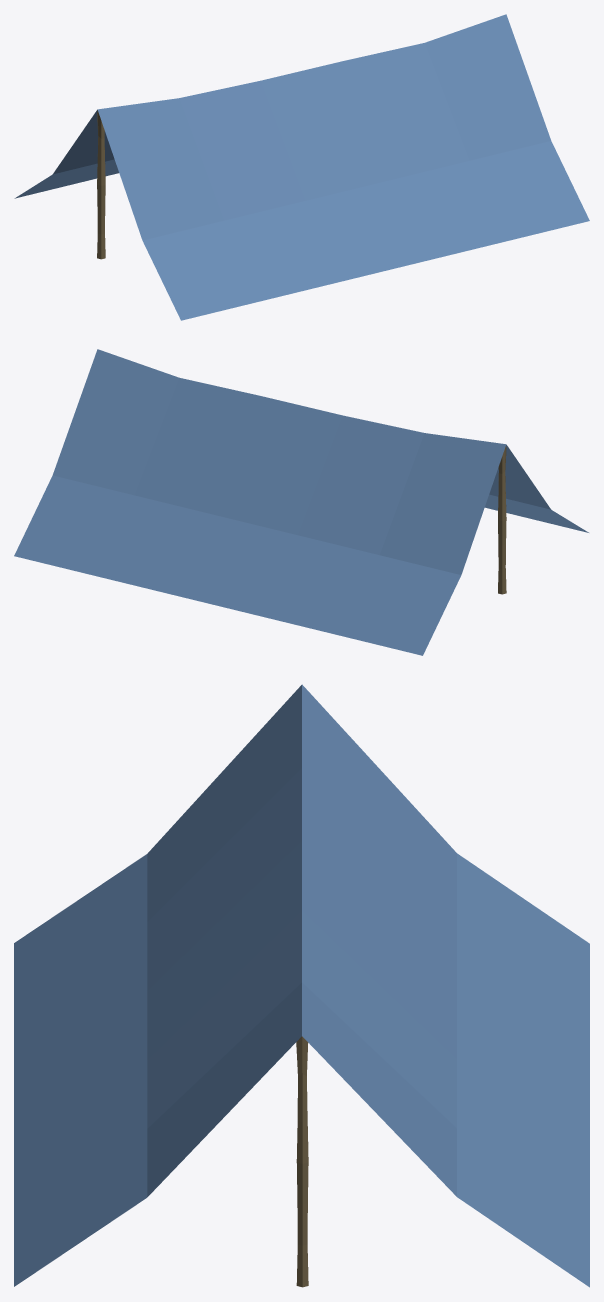
File: Camp_tent.fbx
The picture shows the model from 3 angles, top to bottom: view 1: azimuth 30°, elevation 25°; view 2: azimuth 150°, elevation 25°; view 3: azimuth 270°, elevation 25°; orthographic projection. The views are drawn at different scales.
Visible parts, largest first — view 1: pCylinder3; view 2: pCylinder3; view 3: pCylinder3.
Boxes of the visible parts, x1,y1,x2,y2 form: pCylinder3: [14, 14, 589, 320]; pCylinder3: [14, 349, 588, 655]; pCylinder3: [14, 684, 589, 1287].
Size of the model in its own units: 6.99 by 2.46 by 4.94.
